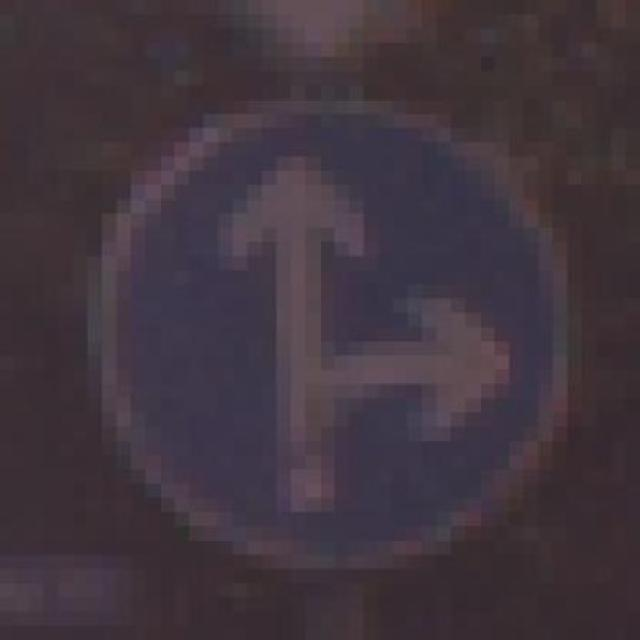Go Straight or Turn Right: (72, 85, 597, 583)
